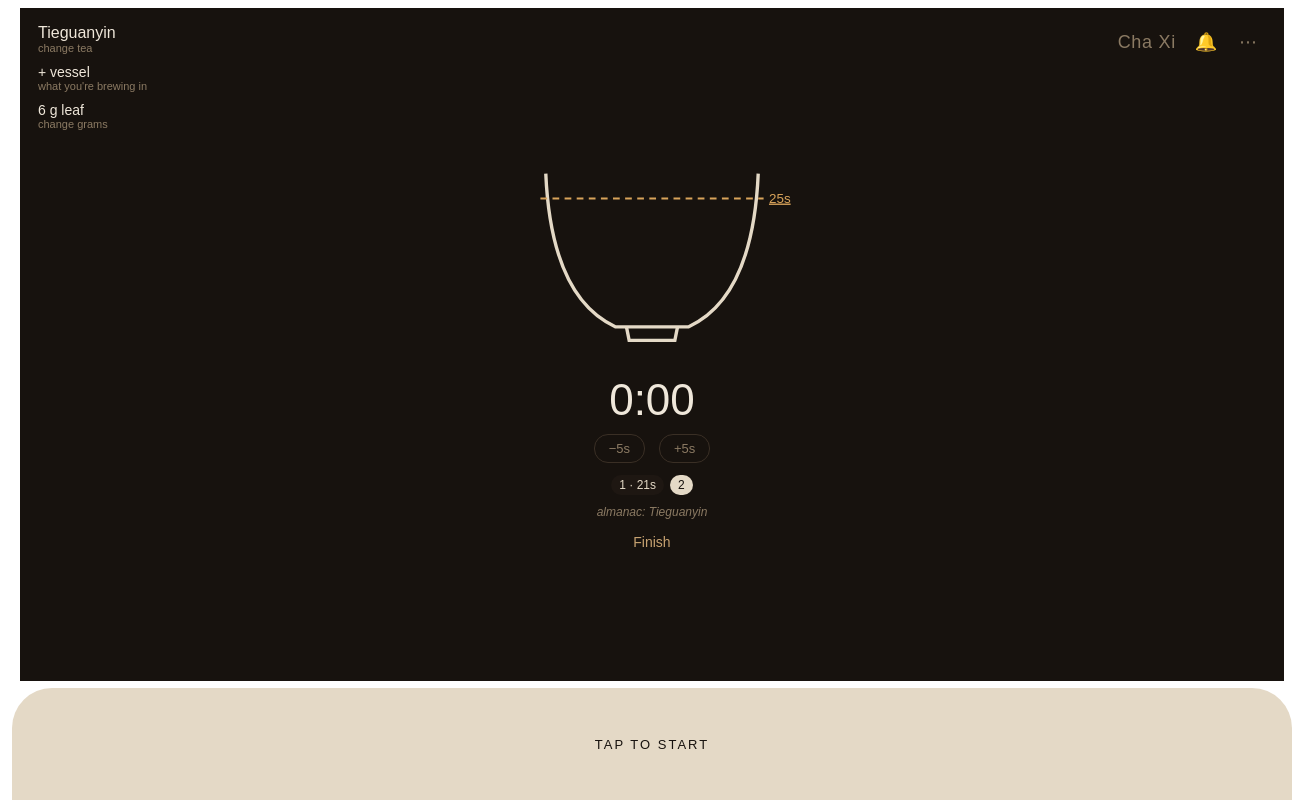
Test case: TimerPage › shows the picker, not a startable timer, while the list reloads after a switch
This screenshot has width=1304, height=800.
Step 1. Click the button with test id "timer-menu" → (1248, 42), box [1230, 24, 1266, 60]
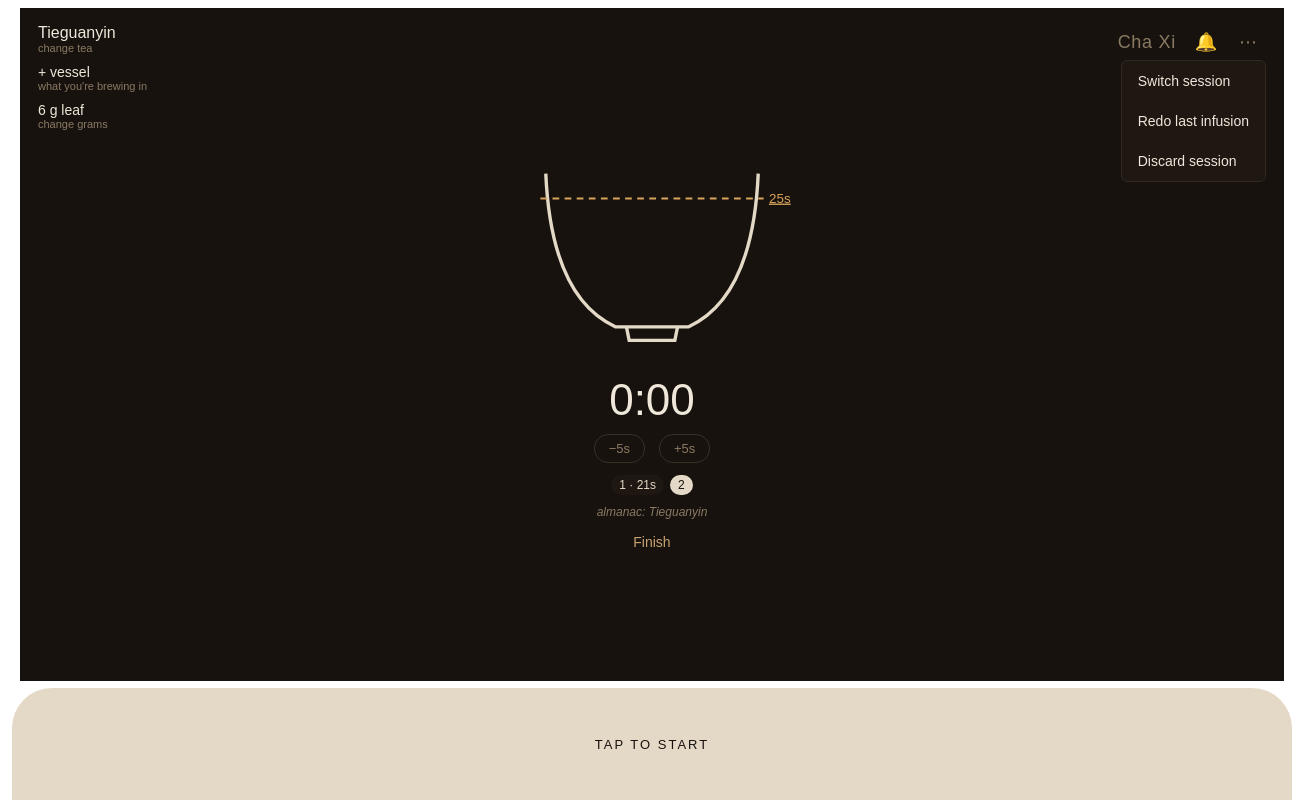
Step 2. Click the button with test id "timer-switch" → (1193, 81), box [1122, 61, 1265, 101]
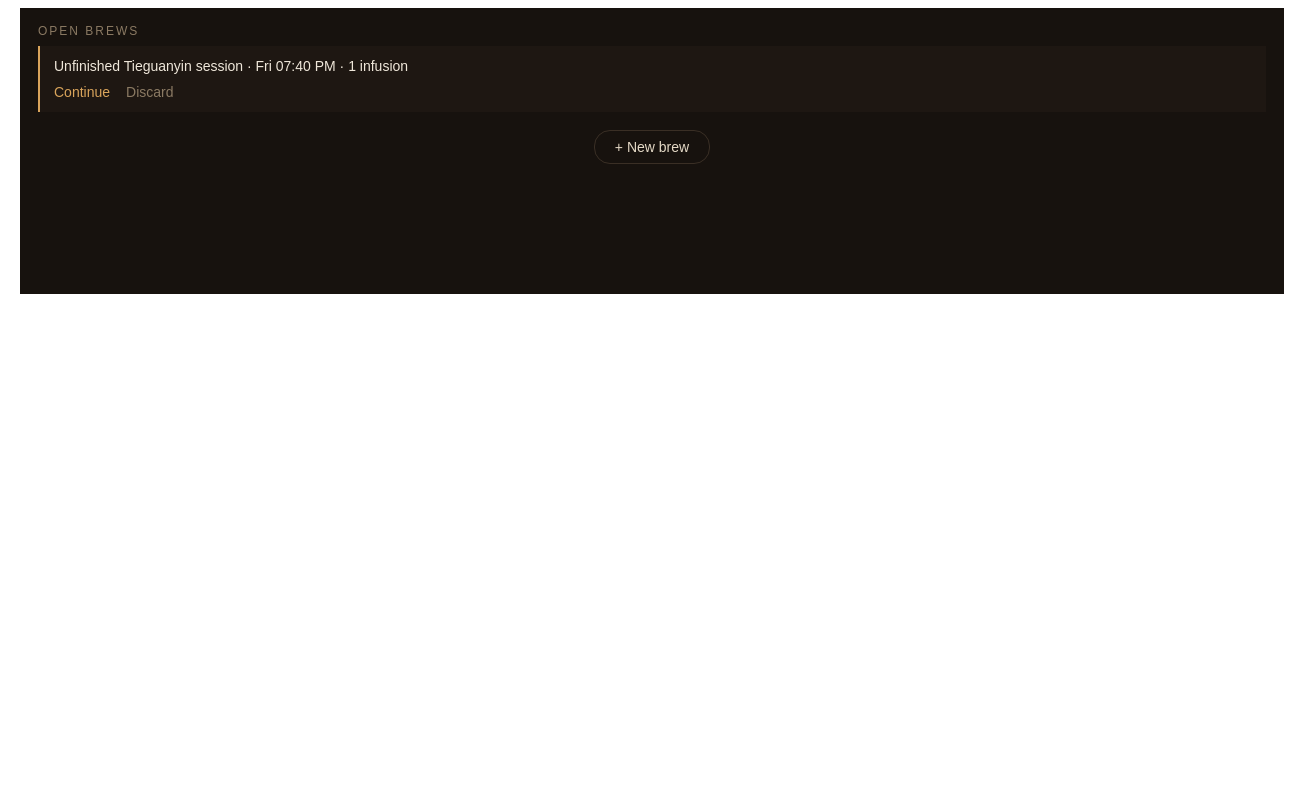
expect the number of elements with test id "recovery-card" is 1: met, box [38, 46, 1266, 112]
